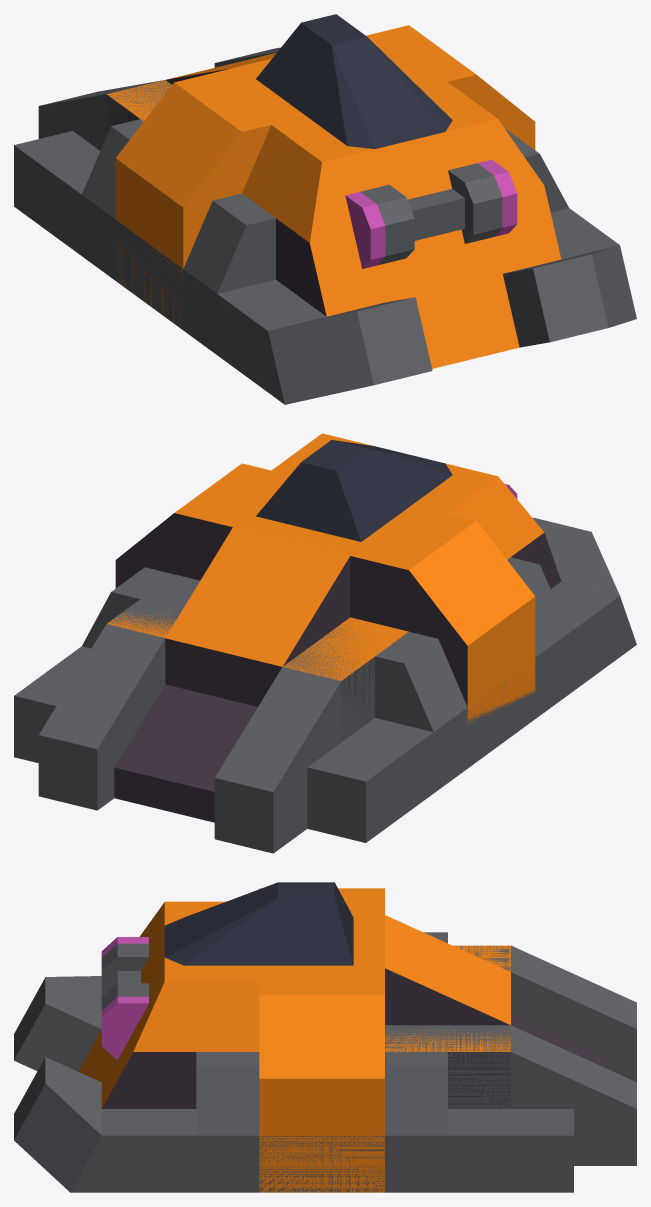
The model's file is enemy.fbx.
The picture shows the model from 3 angles, top to bottom: view 1: azimuth 30°, elevation 25°; view 2: azimuth 150°, elevation 25°; view 3: azimuth 270°, elevation 25°; orthographic projection. The views are drawn at different scales.
Parts seen in each view (by area): view 1: mergedBlocks; view 2: mergedBlocks; view 3: mergedBlocks.
Boxes of the visible parts, <box> form: mergedBlocks: <box>14,14,636,404</box>; mergedBlocks: <box>14,433,636,853</box>; mergedBlocks: <box>14,882,636,1192</box>.
Bounding box in the file's own units: 6 × 3.9 × 9.89.
